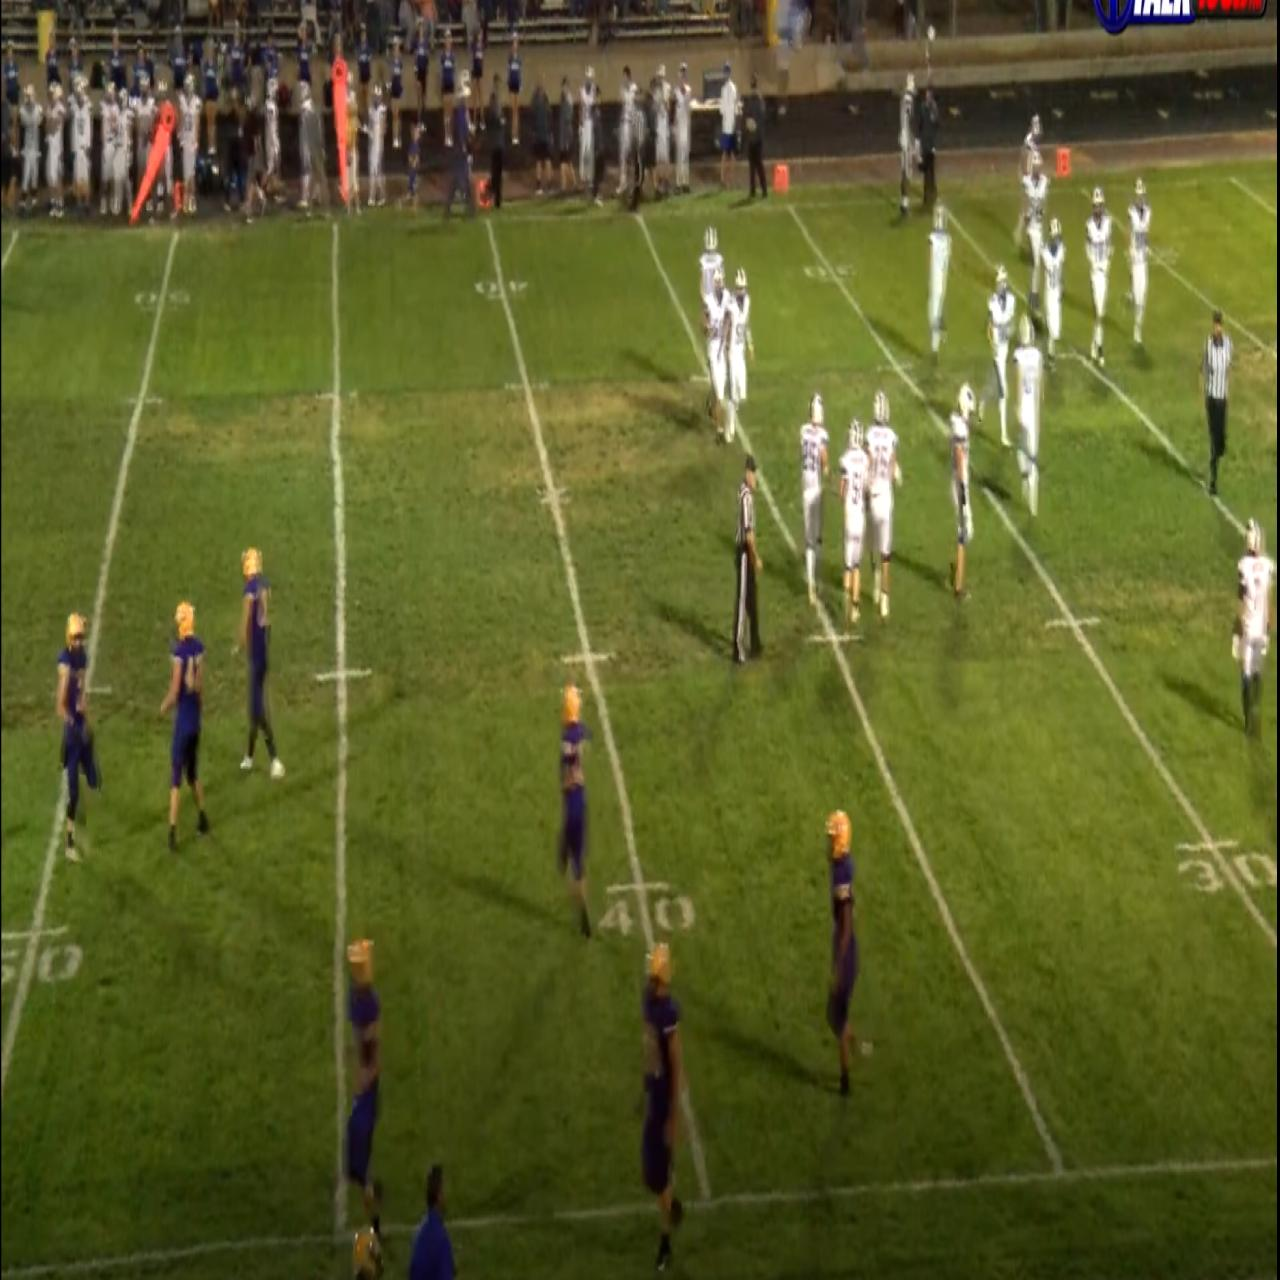30R: (1171, 850, 1280, 897), (802, 258, 858, 284)
40R: (598, 893, 696, 937), (476, 277, 531, 297)
50: (0, 938, 83, 986), (135, 288, 191, 308)
